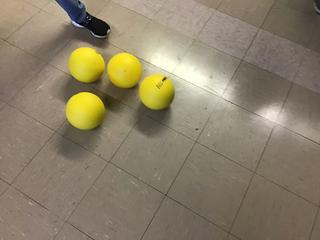power_cell: (64, 91, 107, 131), (138, 73, 179, 112), (106, 51, 145, 91), (67, 48, 108, 85)
